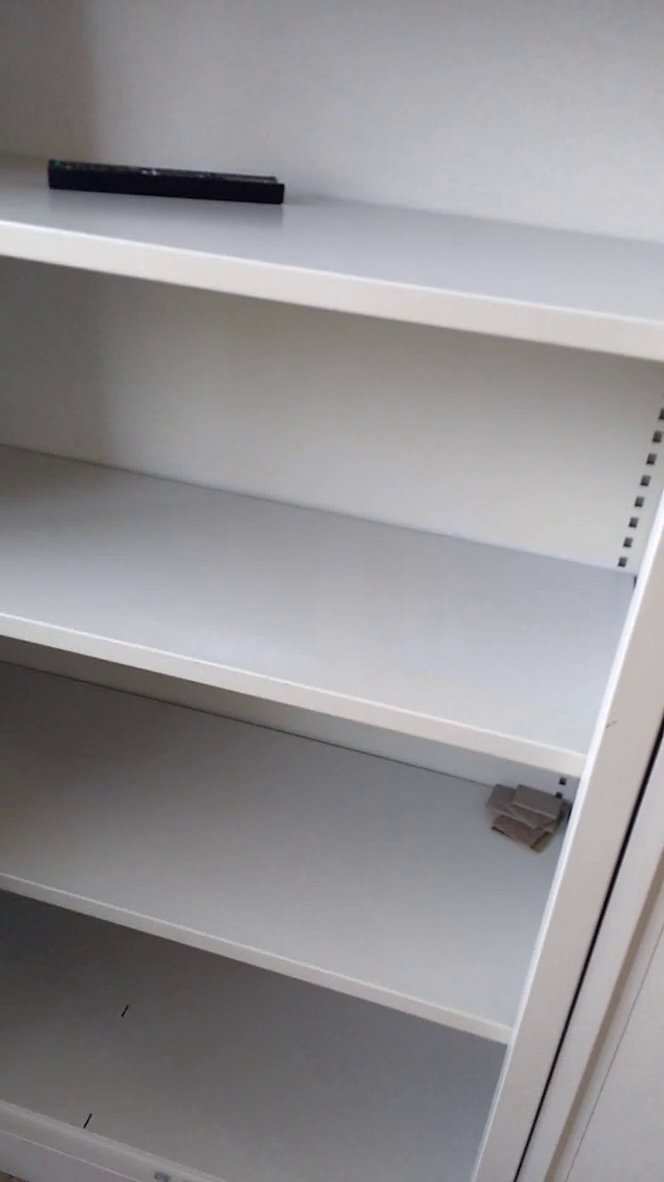remote: (37, 142, 302, 212)
